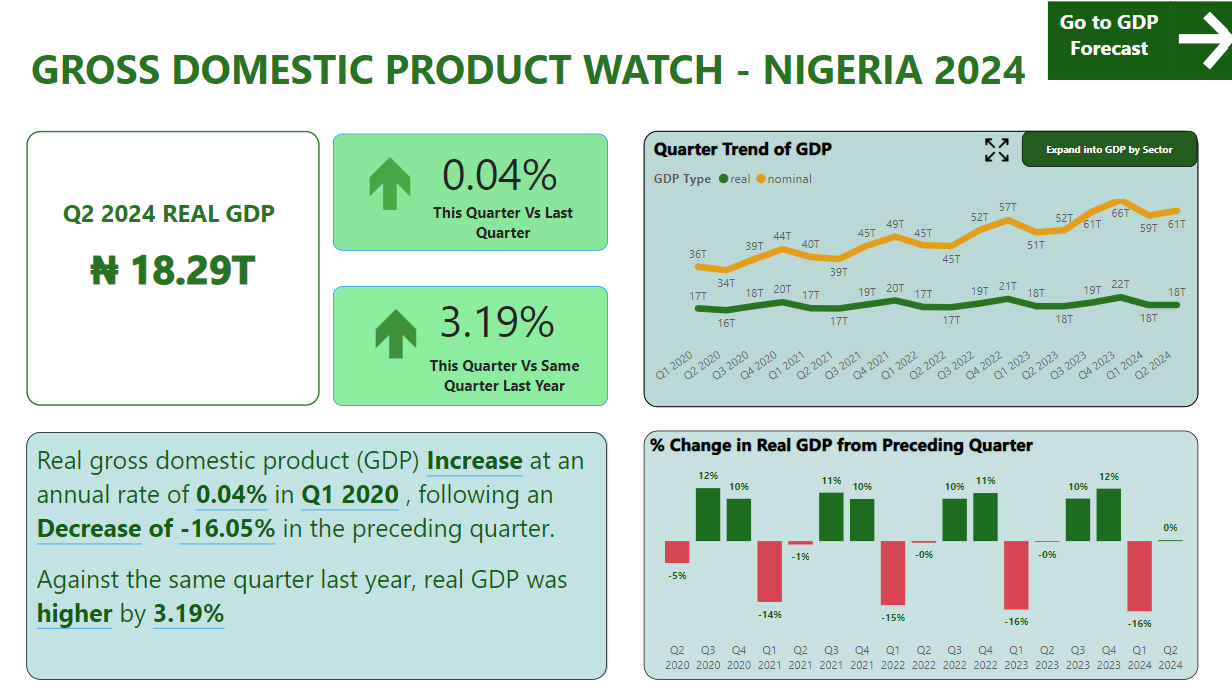

Layout of this report page (visuals, bound fields, positions):
{"tool":"powerbi","page":{"name":"Overview","canvas":[1366,768],"ordinal":0},"visuals":[{"type":"textbox","box":[1151.6,10.9,131.1,83.4],"z":0,"group":"g4"},{"type":"textbox","title":"Text box","box":[60.2,47.4,1102,73],"z":0},{"type":"textbox","title":"Expand Text","box":[1125,148.3,187.5,38.8],"z":0,"group":"g3"},{"type":"textbox","title":"QoQ Background","box":[388.6,150.8,293.5,125.1],"z":0,"group":"g1"},{"type":"textbox","title":"YoY Background","box":[387.4,314.3,293.5,128.1],"z":0,"group":"g2"},{"type":"actionButton","box":[1282.5,10.9,73,83.4],"z":1000,"group":"g4"},{"type":"card","title":"QoQ Indicator","fields":{"Values":["Measures_.QoQ Indicator"]},"box":[412.7,147.8,74.5,92.4],"z":1000,"group":"g1"},{"type":"image","title":"Expand Button","box":[1077.5,151.9,40.1,34.7],"z":1000,"group":"g3"},{"type":"card","title":"YoY Text","fields":{"Values":["Measures_.% YoY"]},"box":[445.1,317.3,235.4,63.9],"z":1000,"group":"g2"},{"type":"textbox","box":[60.2,470.7,622.1,264.5],"z":1000},{"type":"card","title":"Current Quarter","fields":{"Values":["Measures_.Current Real gdp"]},"box":[60.2,147.8,313.8,293.7],"z":2000},{"type":"card","title":"QoQ Text","fields":{"Values":["Measures_.% QoQ"]},"box":[448.2,148,235.4,87.6],"z":2000,"group":"g1"},{"type":"card","title":"YoY Indicator","fields":{"Values":["Measures_.YoY Indicator"]},"box":[418.1,316.8,73,79],"z":2000,"group":"g2"},{"type":"textbox","box":[720.7,147.8,592.9,295.6],"z":3000},{"type":"textbox","title":"QoQ Title","box":[462.5,218.1,216.4,59.9],"z":3000,"group":"g1"},{"type":"textbox","title":"YoY Title","box":[470.7,381.3,198.9,60.2],"z":3000,"group":"g2"},{"type":"multiRowCard","fields":{"Values":["Measures_.Current Quarter Text"]},"box":[94,213.5,279.7,81.1],"z":4000},{"type":"textbox","box":[720.7,468.9,592.9,266.4],"z":5000},{"type":"lineChart","title":"Quarter Trend of GDP","fields":{"Category":["date table.Quarter Year"],"Y":["Measures_.gdp"],"Series":["gdp.gdp_type"]},"box":[720.7,147.8,592.9,295.6],"z":6000},{"type":"group","id":"g1","title":"Group 1","box":[388.6,147.8,294.9,130.2],"z":7000},{"type":"group","id":"g2","title":"Group 2","box":[387.4,314.3,293.5,128.1],"z":8000},{"type":"clusteredColumnChart","title":"% Change in Real GDP from Preceding Quarter","fields":{"Category":["date table.Quarter Year"],"Y":["Measures_.% QoQ"]},"box":[721,470.8,592.9,263.7],"z":9000},{"type":"textbox","box":[60.2,470.7,620.3,264.5],"z":10000},{"type":"group","id":"g3","title":"Group 3","box":[1077.5,148.3,235,38.8],"z":11000},{"type":"group","id":"g4","title":"Group 5","box":[1151.6,10.9,203.9,83.4],"z":13000}]}

Visuals, with their boxes in screenshot pixels (x1, y1, x2, y2), scaled from the page's 1366x768 canvas onto the 1232x698 screenshot:
textbox: bbox(1039, 10, 1157, 86)
"Text box" textbox: bbox(54, 43, 1048, 109)
"Expand Text" textbox: bbox(1015, 135, 1184, 170)
"QoQ Background" textbox: bbox(350, 137, 615, 251)
"YoY Background" textbox: bbox(349, 286, 614, 402)
actionButton: bbox(1157, 10, 1223, 86)
"QoQ Indicator" card: bbox(372, 134, 439, 218)
"Expand Button" image: bbox(972, 138, 1008, 170)
"YoY Text" card: bbox(401, 288, 614, 346)
textbox: bbox(54, 428, 615, 668)
"Current Quarter" card: bbox(54, 134, 337, 401)
"QoQ Text" card: bbox(404, 135, 617, 214)
"YoY Indicator" card: bbox(377, 288, 443, 360)
textbox: bbox(650, 134, 1185, 403)
"QoQ Title" textbox: bbox(417, 198, 612, 253)
"YoY Title" textbox: bbox(425, 347, 604, 401)
multiRowCard - Measures_.Current Quarter Text: bbox(85, 194, 337, 268)
textbox: bbox(650, 426, 1185, 668)
"Quarter Trend of GDP" lineChart: bbox(650, 134, 1185, 403)
"Group 1" group: bbox(350, 134, 616, 253)
"Group 2" group: bbox(349, 286, 614, 402)
"% Change in Real GDP from Preceding Quarter" clusteredColumnChart: bbox(650, 428, 1185, 668)
textbox: bbox(54, 428, 614, 668)
"Group 3" group: bbox(972, 135, 1184, 170)
"Group 5" group: bbox(1039, 10, 1223, 86)
